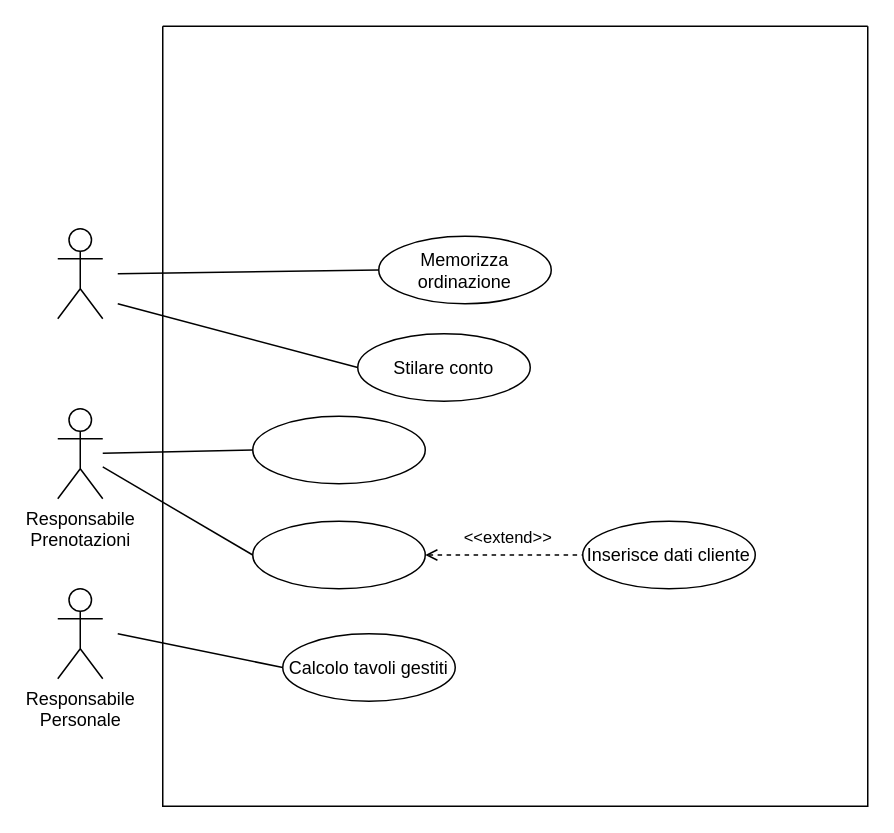
Some shapes in this 894 by 833 pixel diagram are drawn without their labels. The box of each missing label's shape, as (x1, y1, x2, y2) in pixels:
Assegnazione cameriere/i: (251, 415, 425, 484)
Cameriere: (56, 227, 103, 319)
Prenota tavoli: (251, 520, 425, 589)
